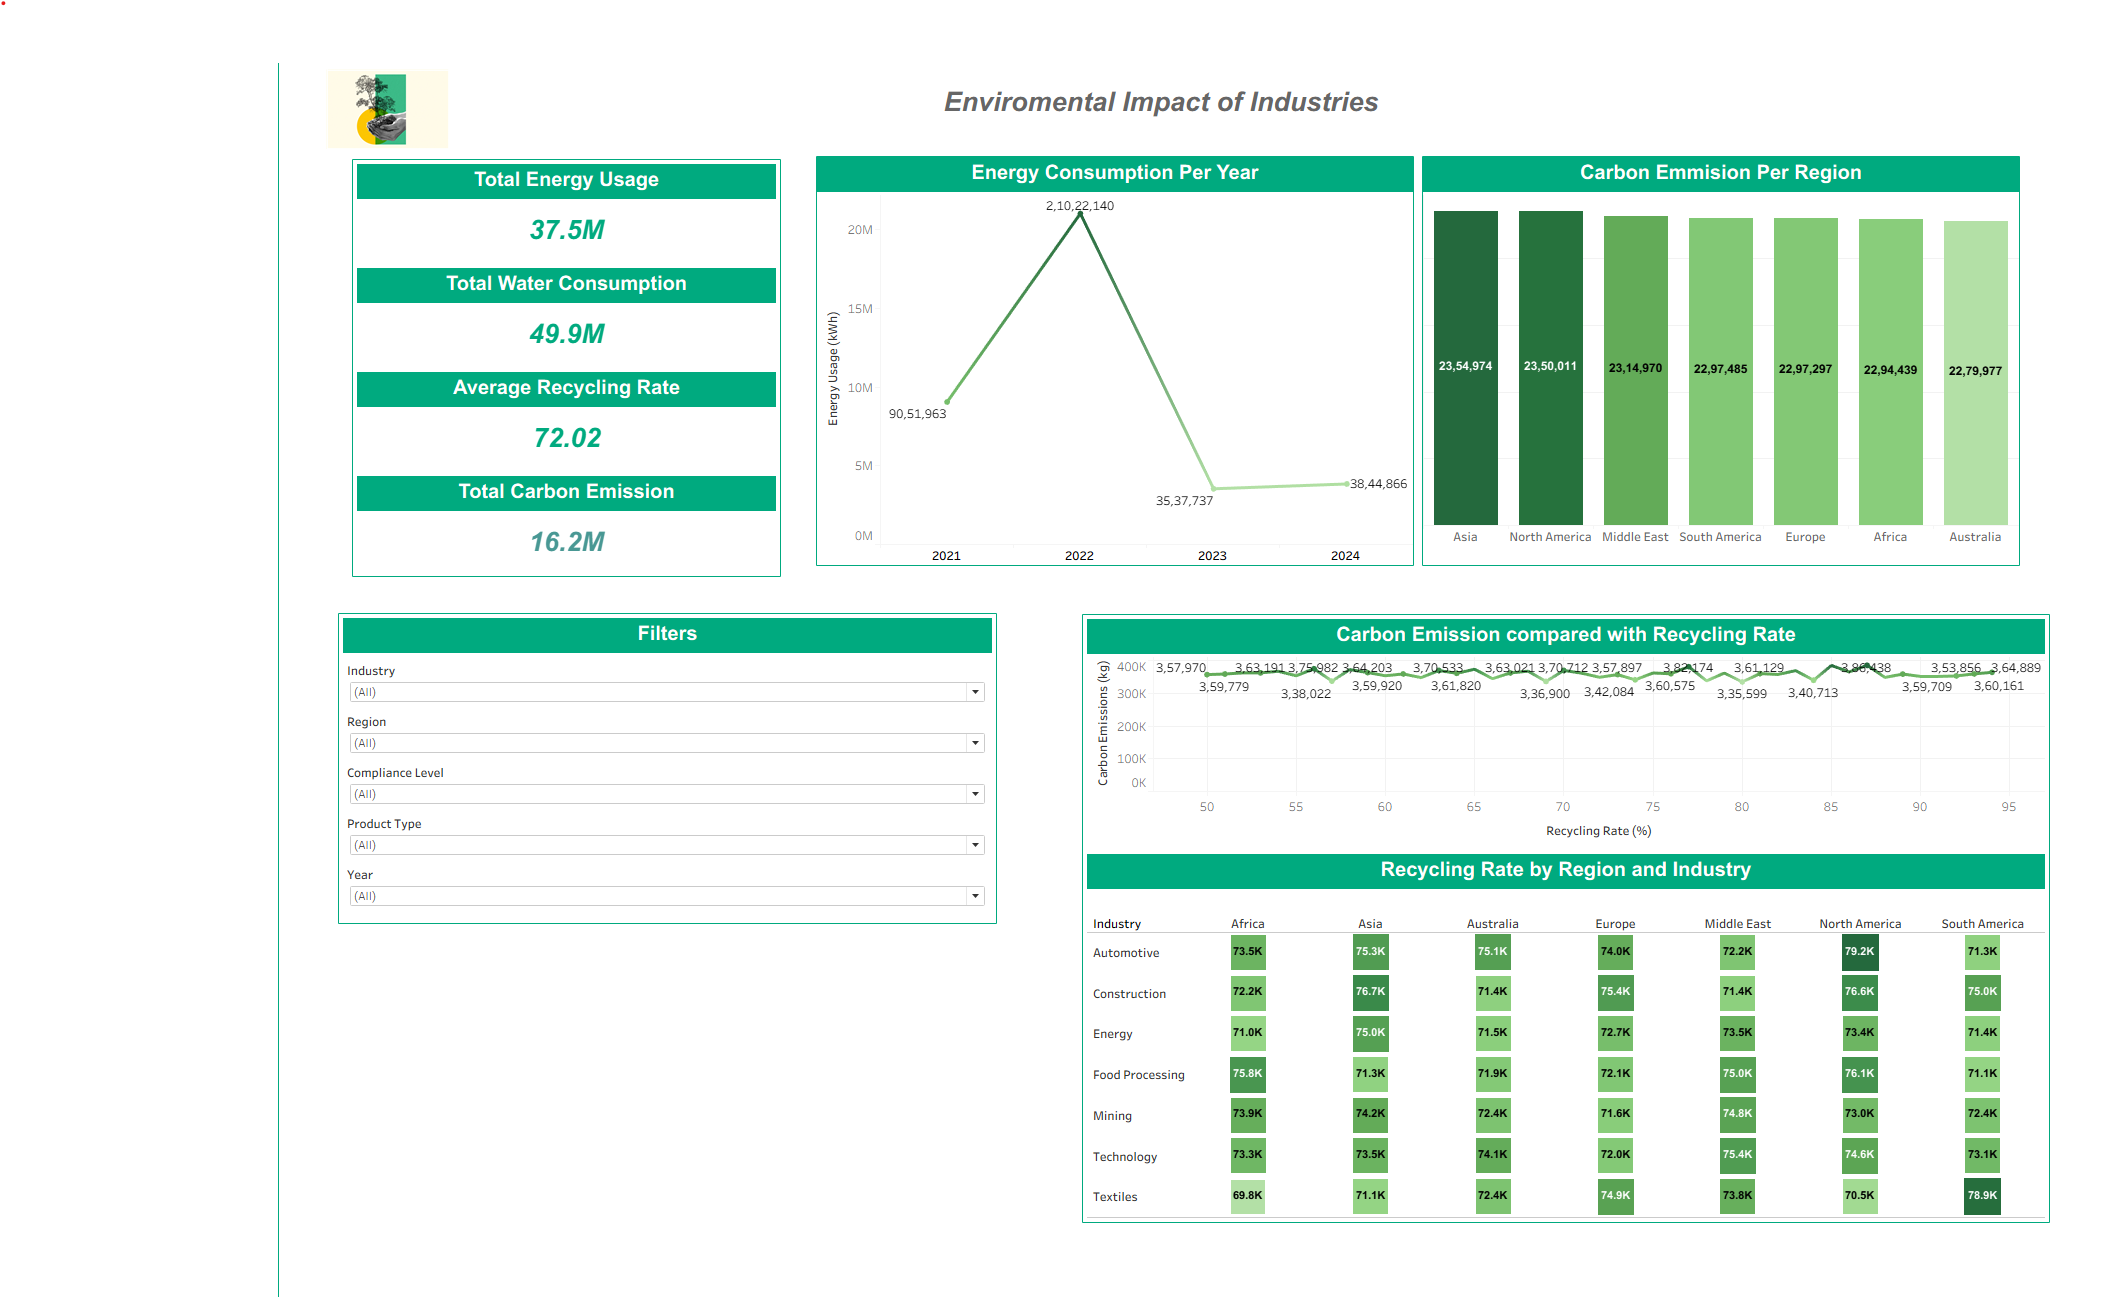

What the dashboard file says about the page in this screenshot:
{"tool":"tableau","page":{"name":"Enironmental Impact Of Industries","canvas":[1000,1000],"units":"permille","ordinal":0},"visuals":[{"type":"image","param":"Image/Logo.jpg","box":[23.8,11.2,52.4,66.9]},{"type":"text","box":[278.8,27.1,200.9,23.9]},{"type":"worksheet","title":"Energy Consumption Per Year","mark":"Line","rows":["Energy Usage (kWh)"],"cols":["Year"],"box":[230.7,78.8,258,332.8]},{"type":"worksheet","title":"Carbon Emmision Per Region","mark":"Automatic","rows":["Carbon Emissions (kg)"],"cols":["Region"],"box":[488.7,78.8,258,332.8]},{"type":"worksheet","title":"Total Energy Usage","mark":"Automatic","box":[35.3,85.2,181.8,82.8]},{"type":"worksheet","title":"Total Water Consumption","mark":"Automatic","box":[35.3,168,181.8,82.8]},{"type":"worksheet","title":"Average Recycling Rate","mark":"Automatic","box":[35.3,250.8,181.8,82.8]},{"type":"worksheet","title":"Total Carbon Emission","mark":"Automatic","box":[35.3,333.6,181.8,82.8]},{"type":"worksheet","title":"Filters","mark":"Automatic","box":[29.4,446.7,279.7,246]},{"type":"worksheet","title":"Carbon Emission compared with Recycling Rate","mark":"Automatic","rows":["Carbon Emissions (kg)"],"cols":["Recycling Rate (%)"],"box":[346.1,447.5,411.2,187.1]},{"type":"filter","title":"Filters","param":"[federated.0mrxcy71ni1mt518q20wz17thslp].[none:Industry:nk]","box":[31.1,481.7,276.3,40.6]},{"type":"filter","title":"Filters","param":"[federated.0mrxcy71ni1mt518q20wz17thslp].[none:Region:nk]","box":[31.1,522.3,276.3,40.6]},{"type":"filter","title":"Filters","param":"[federated.0mrxcy71ni1mt518q20wz17thslp].[none:Compliance Level:nk]","box":[31.1,562.9,276.3,40.6]},{"type":"filter","title":"Filters","param":"[federated.0mrxcy71ni1mt518q20wz17thslp].[none:Product Type:nk]","box":[31.1,603.5,276.3,40.6]},{"type":"worksheet","title":"Recycling Rate by Region and Industry","mark":"Automatic","rows":["Industry"],"cols":["Region"],"box":[346.1,634.6,411.2,296.1]},{"type":"filter","title":"Filters","param":"[federated.0mrxcy71ni1mt518q20wz17thslp].[none:Year:ok]","box":[31.1,644.1,276.3,40.6]}]}

Visuals, with their boxes on the dashboard's canvas, which has no fixed pixel size, in thousandths of its width and height (x1, y1, x2, y2). These are canvas units, not pixel positions in the 2120x1297 screenshot, which may show the page scaled, cropped or inside an application window:
image: rect(24, 11, 76, 78)
text: rect(279, 27, 480, 51)
"Energy Consumption Per Year" worksheet (Line marks): rect(231, 79, 489, 412)
"Carbon Emmision Per Region" worksheet: rect(489, 79, 747, 412)
"Total Energy Usage" worksheet: rect(35, 85, 217, 168)
"Total Water Consumption" worksheet: rect(35, 168, 217, 251)
"Average Recycling Rate" worksheet: rect(35, 251, 217, 334)
"Total Carbon Emission" worksheet: rect(35, 334, 217, 416)
"Filters" worksheet: rect(29, 447, 309, 693)
"Carbon Emission compared with Recycling Rate" worksheet: rect(346, 448, 757, 635)
"Filters" filter: rect(31, 482, 307, 522)
"Filters" filter: rect(31, 522, 307, 563)
"Filters" filter: rect(31, 563, 307, 604)
"Filters" filter: rect(31, 604, 307, 644)
"Recycling Rate by Region and Industry" worksheet: rect(346, 635, 757, 931)
"Filters" filter: rect(31, 644, 307, 685)
